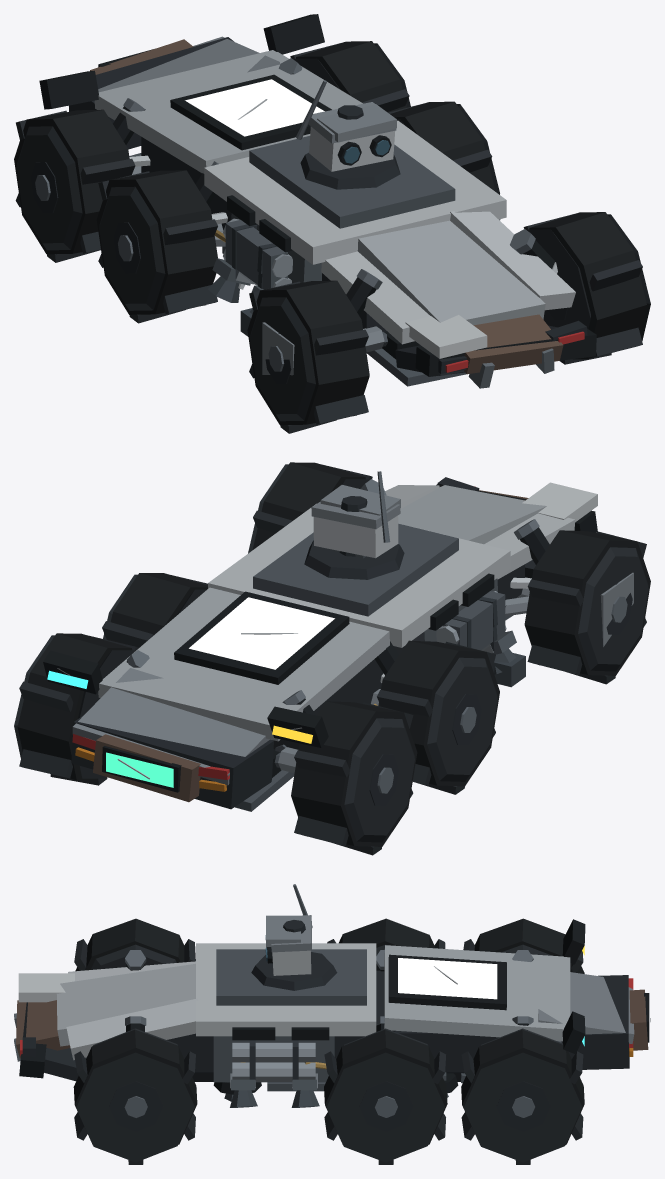
The model's file is r47xs_recon_rover_d1_lod1.meshopt.glb.
The picture shows the model from 3 angles, top to bottom: view 1: azimuth 30°, elevation 25°; view 2: azimuth 150°, elevation 25°; view 3: azimuth 270°, elevation 25°; orthographic projection. The views are drawn at different scales.
Parts seen in each view (by area): view 1: CHASSIS_ARMOR_BODY, ZONE_FRONT_BUMPER, WHEEL_ML, WHEEL_FL, WHEEL_RL, WHEEL_FR, ZONE_FLANK_NEG_X, ZONE_REAR_PANEL, WHEEL_RR, WHEEL_MR, DISPLAY_FDAI_TELEMETRY_PANEL, SENSOR_MAST_HEAD (+8 smaller); view 2: CHASSIS_ARMOR_BODY, ZONE_REAR_PANEL, WHEEL_RL, WHEEL_FL, WHEEL_ML, WHEEL_RR, ZONE_FRONT_BUMPER, DISPLAY_FDAI_TELEMETRY_PANEL, WHEEL_MR, WHEEL_FR, SENSOR_MAST_HEAD, ZONE_FLANK_NEG_X (+10 smaller); view 3: CHASSIS_ARMOR_BODY, ZONE_FRONT_BUMPER, WHEEL_FR, WHEEL_MR, WHEEL_RR, ZONE_FLANK_POS_X, ZONE_REAR_PANEL, WHEEL_FL, DISPLAY_FDAI_TELEMETRY_PANEL, WHEEL_RL, SENSOR_MAST_HEAD, WHEEL_ML (+5 smaller).
Boxes of the visible parts, x1,y1,x2,y2 form: CHASSIS_ARMOR_BODY: [94, 50, 506, 359]; ZONE_FRONT_BUMPER: [321, 211, 596, 388]; WHEEL_ML: [96, 170, 217, 323]; WHEEL_FL: [247, 280, 369, 433]; WHEEL_RL: [14, 109, 135, 262]; WHEEL_FR: [523, 212, 650, 364]; ZONE_FLANK_NEG_X: [39, 70, 321, 289]; ZONE_REAR_PANEL: [69, 36, 280, 156]; WHEEL_RR: [290, 41, 410, 112]; WHEEL_MR: [388, 101, 499, 194]; DISPLAY_FDAI_TELEMETRY_PANEL: [185, 79, 324, 136]; SENSOR_MAST_HEAD: [296, 80, 396, 171]; CHASSIS_ARMOR_BODY: [98, 503, 524, 777]; ZONE_REAR_PANEL: [71, 668, 294, 811]; WHEEL_RL: [291, 701, 417, 855]; WHEEL_FL: [524, 530, 650, 684]; WHEEL_ML: [377, 640, 499, 794]; WHEEL_RR: [14, 633, 138, 785]; ZONE_FRONT_BUMPER: [385, 477, 597, 620]; DISPLAY_FDAI_TELEMETRY_PANEL: [189, 597, 334, 669]; WHEEL_MR: [102, 573, 207, 647]; WHEEL_FR: [248, 462, 372, 553]; SENSOR_MAST_HEAD: [311, 471, 400, 558]; ZONE_FLANK_NEG_X: [267, 573, 506, 747]; CHASSIS_ARMOR_BODY: [167, 943, 570, 1091]; ZONE_FRONT_BUMPER: [14, 961, 198, 1081]; WHEEL_FR: [73, 1028, 197, 1164]; WHEEL_MR: [324, 1028, 447, 1164]; WHEEL_RR: [461, 1028, 584, 1164]; ZONE_FLANK_POS_X: [213, 1011, 585, 1094]; ZONE_REAR_PANEL: [461, 972, 649, 1083]; WHEEL_FL: [74, 918, 195, 971]; DISPLAY_FDAI_TELEMETRY_PANEL: [398, 958, 497, 999]; WHEEL_RL: [463, 918, 584, 973]; SENSOR_MAST_HEAD: [265, 884, 312, 975]; WHEEL_ML: [327, 918, 445, 955].
Bounding box in the file's own units: 2.44 × 1.68 × 4.74.
